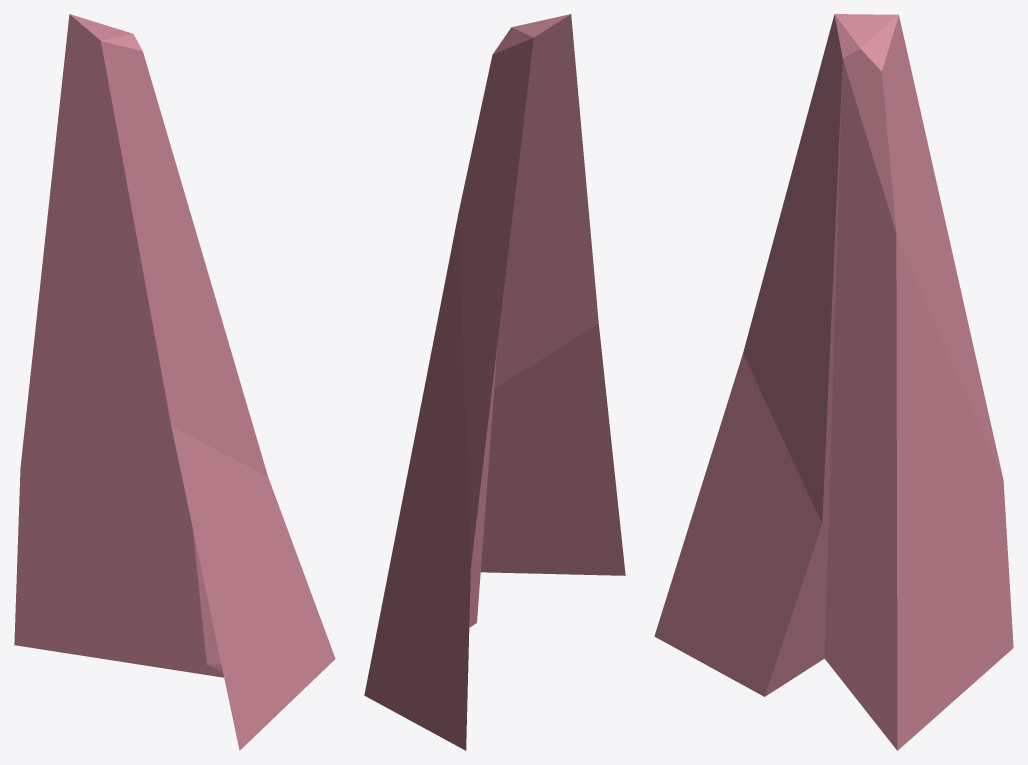
Rendered from Laundry_towel.fbx.
3 views of the same model, side by side, from view 1: azimuth 30°, elevation 25°; view 2: azimuth 150°, elevation 25°; view 3: azimuth 270°, elevation 25° (orthographic). The views are drawn at different scales.
Visible parts, largest first — view 1: Laundry_towel; view 2: Laundry_towel; view 3: Laundry_towel.
Part boxes in pixels (box(x1,y1,x2,y2)): Laundry_towel: box(14, 14, 335, 750); Laundry_towel: box(364, 14, 625, 750); Laundry_towel: box(654, 14, 1013, 750).
Bounding box in the file's own units: 21.36 × 73.31 × 36.27.
